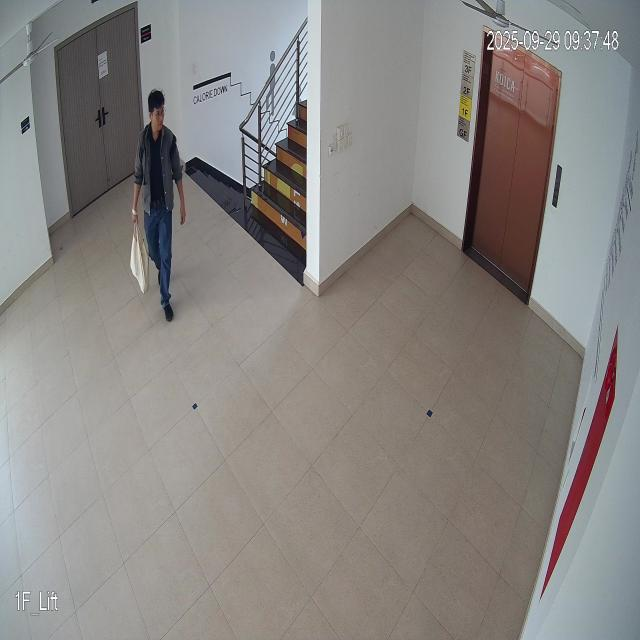face: (148, 89, 165, 135)
